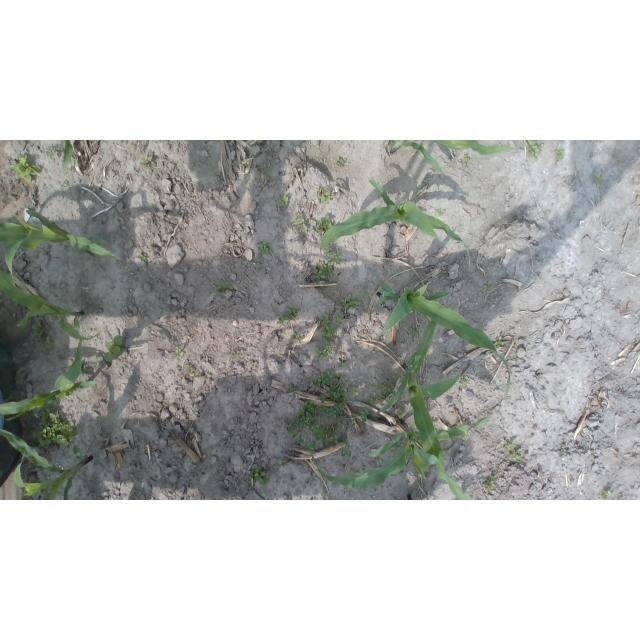Maize: (376, 320, 481, 500), (378, 280, 511, 396), (313, 413, 495, 490), (319, 180, 465, 254), (1, 208, 124, 288), (0, 332, 98, 420), (0, 270, 100, 341), (1, 429, 94, 500), (389, 140, 524, 176), (63, 140, 74, 174)
Weeds: (315, 370, 373, 428), (293, 403, 351, 458), (32, 409, 76, 448), (8, 156, 40, 183), (102, 335, 128, 362), (503, 437, 522, 462), (524, 140, 545, 162), (314, 261, 335, 283), (321, 314, 335, 343), (312, 215, 333, 234), (373, 381, 396, 396), (250, 467, 269, 485), (214, 281, 235, 297), (327, 242, 341, 265), (317, 188, 336, 204), (183, 363, 203, 378), (32, 322, 49, 339), (316, 343, 332, 361), (36, 337, 55, 352), (294, 212, 308, 232), (483, 475, 498, 493), (257, 241, 272, 258), (342, 294, 358, 309), (286, 420, 299, 438), (140, 155, 154, 169), (278, 313, 291, 328), (46, 145, 58, 160), (286, 305, 299, 318), (369, 395, 384, 406), (277, 195, 289, 207), (335, 157, 348, 168), (387, 372, 400, 383), (279, 460, 294, 469), (173, 349, 185, 360), (231, 349, 242, 361), (594, 173, 604, 186), (293, 333, 304, 344), (495, 336, 505, 348), (601, 490, 614, 499), (484, 281, 494, 292), (555, 149, 565, 160), (336, 310, 345, 322), (460, 431, 470, 441), (409, 325, 419, 335), (435, 208, 446, 217), (139, 253, 147, 263), (351, 387, 359, 397), (288, 385, 296, 394), (339, 357, 346, 367), (461, 378, 469, 386), (398, 411, 406, 419), (635, 190, 640, 202), (561, 446, 567, 455), (188, 321, 195, 327), (463, 158, 469, 163)
